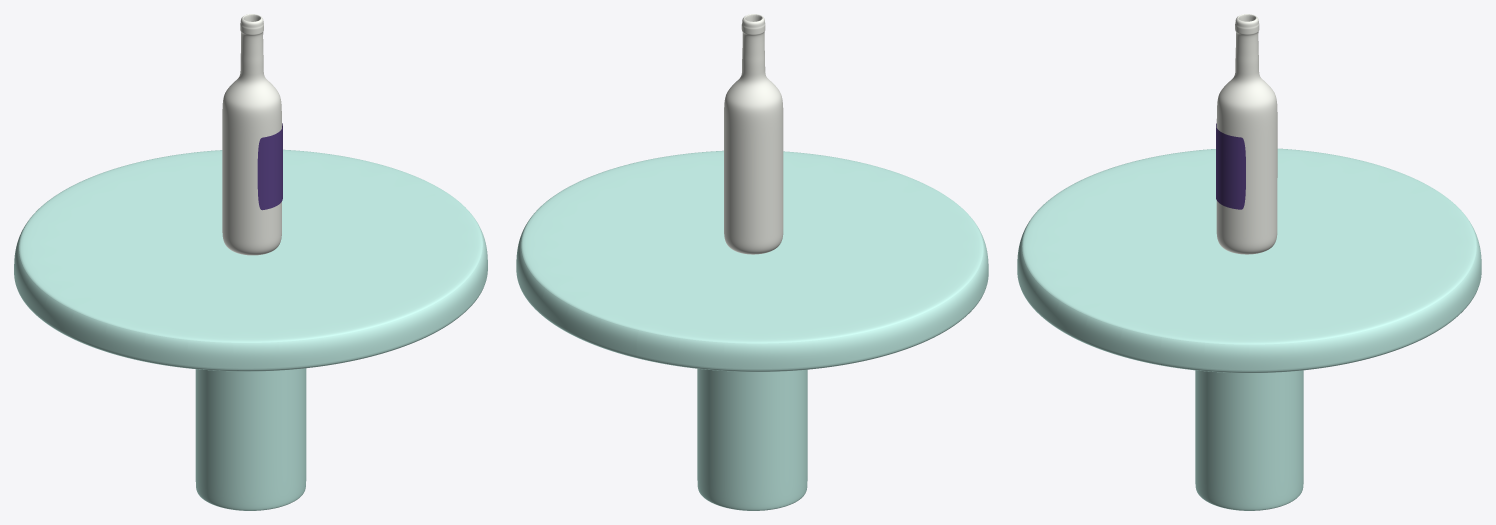
3 views of the same model, side by side, from view 1: azimuth 30°, elevation 25°; view 2: azimuth 150°, elevation 25°; view 3: azimuth 270°, elevation 25° (orthographic).
Visible parts, largest first — view 1: split_parent_1, Object_4, split_parent_2; view 2: split_parent_1, Object_4; view 3: split_parent_1, Object_4, split_parent_2.
Part boxes in pixels (x1,y1,x2,y2): split_parent_1: [14, 149, 487, 510]; Object_4: [222, 14, 281, 255]; split_parent_2: [257, 123, 282, 210]; split_parent_1: [516, 150, 988, 510]; Object_4: [724, 14, 783, 254]; split_parent_1: [1017, 148, 1481, 510]; Object_4: [1216, 14, 1277, 254]; split_parent_2: [1216, 123, 1245, 209].
Bounding box in the file's own units: 0.9153 × 1 × 0.8941.
